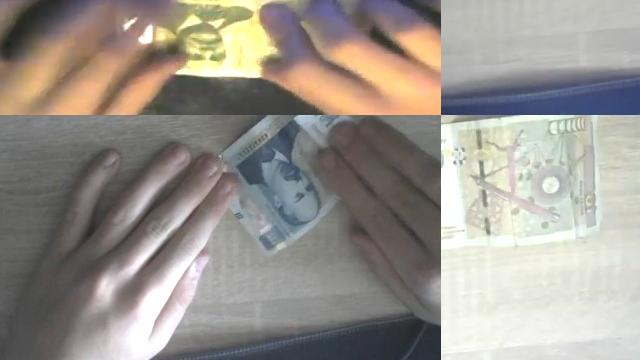10leva: (441, 115, 601, 249), (163, 0, 312, 77)
20leva: (222, 115, 348, 253)
